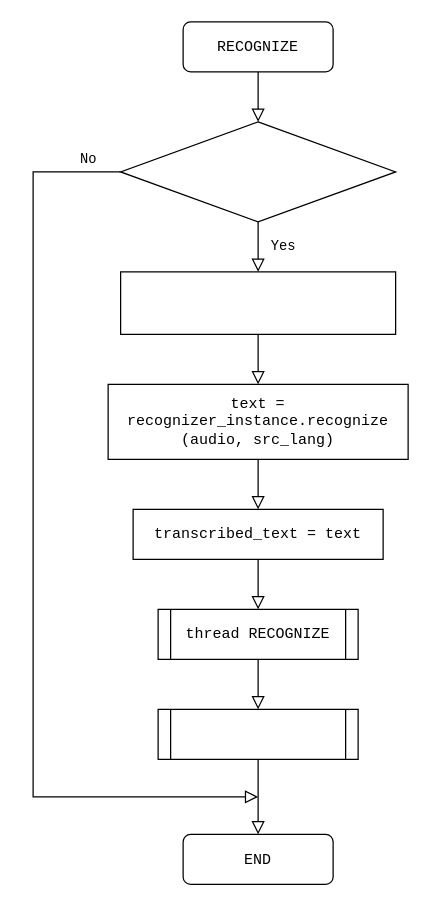
This 430x906 diagram has some shape labels left out. The box of each missing label's shape, as (x1, y1, x2, y2) in pixels:
audio = recognizer_instance.listen(): (119, 271, 396, 334)
if global_status == "interpreting": (119, 121, 396, 222)
TRANSLATE(text): (157, 708, 358, 759)
